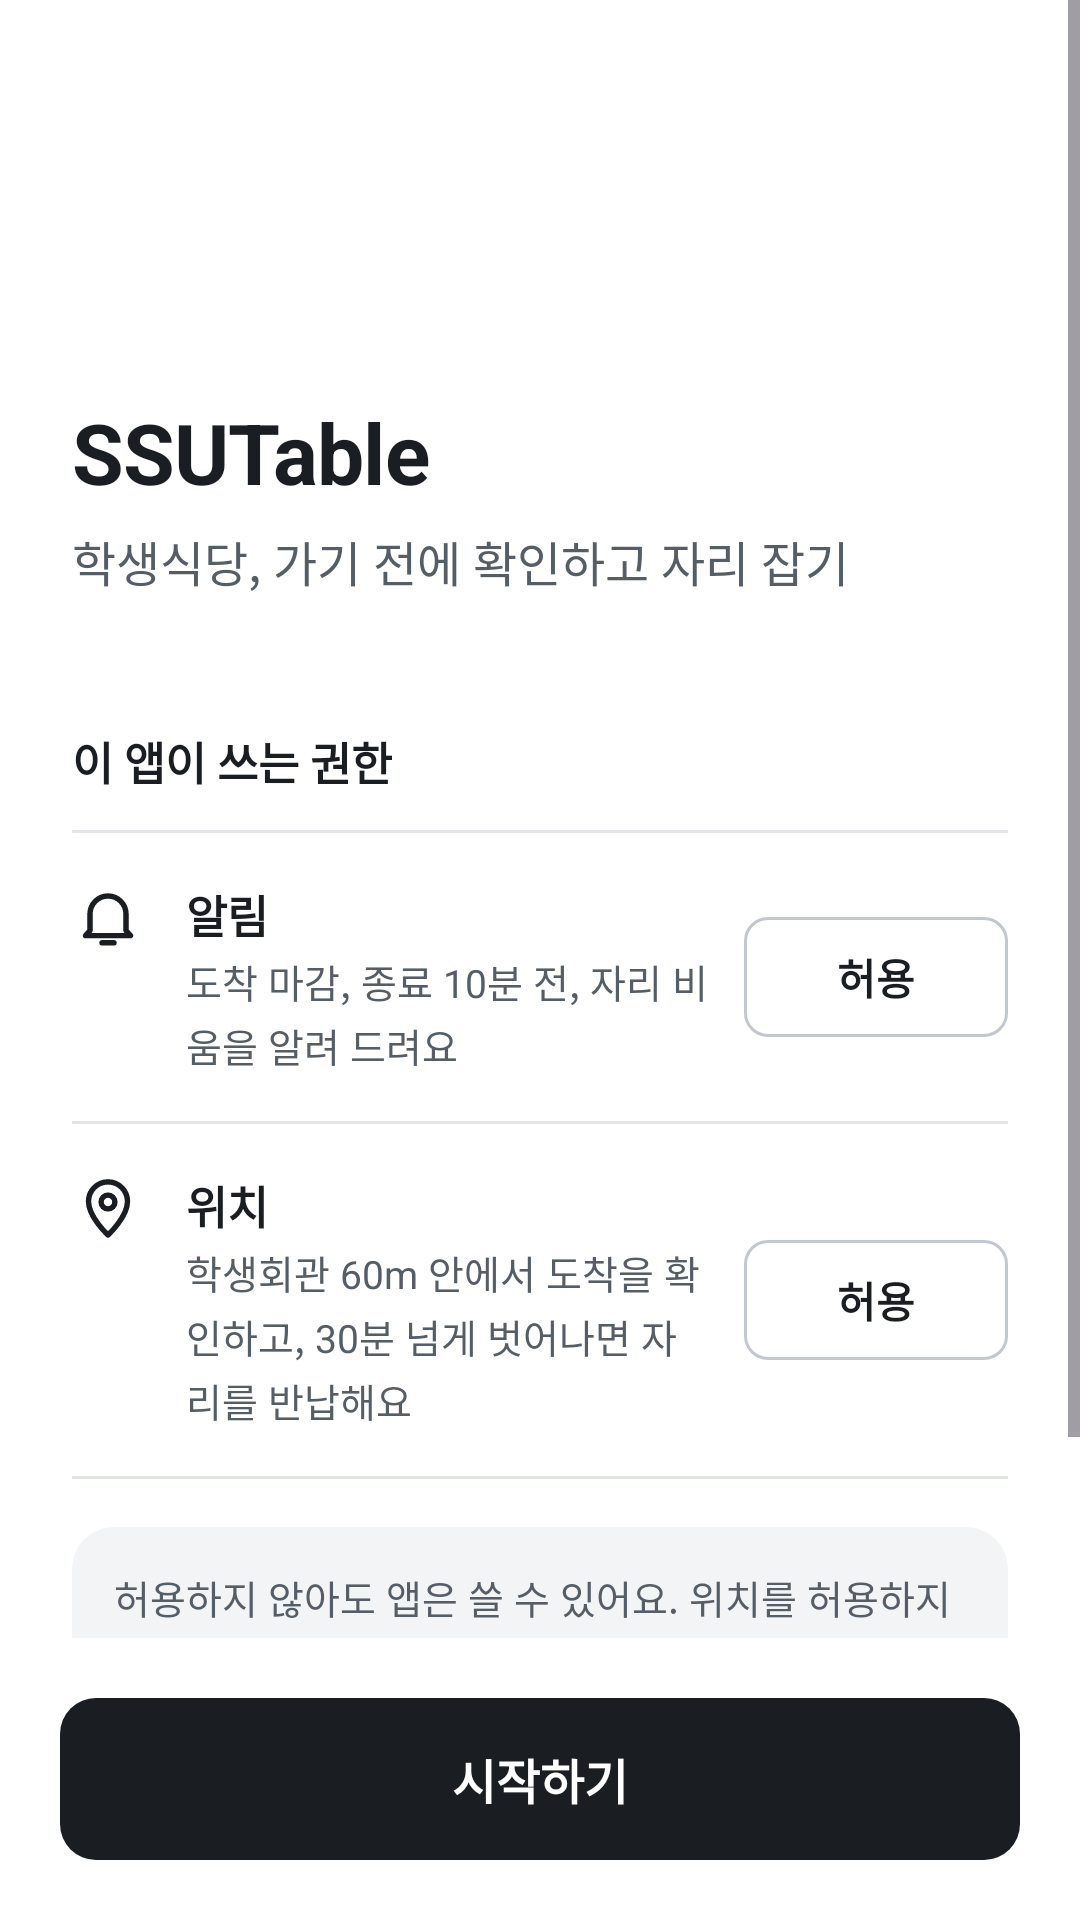

Icons on this 1080 x 1920 Android screen, each with its box as (x1, y1, x2, y2):
bell: (82, 893, 134, 946)
pin: (85, 1179, 131, 1238)
